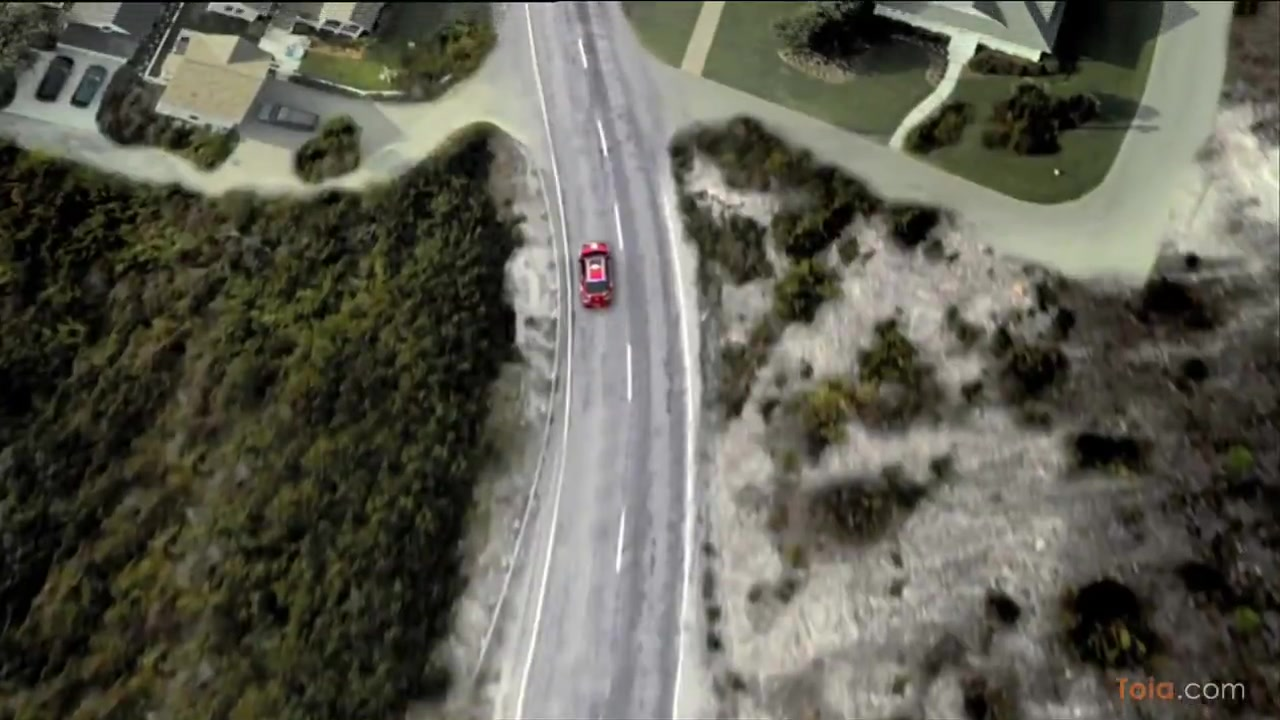car: (572, 241, 622, 313)
